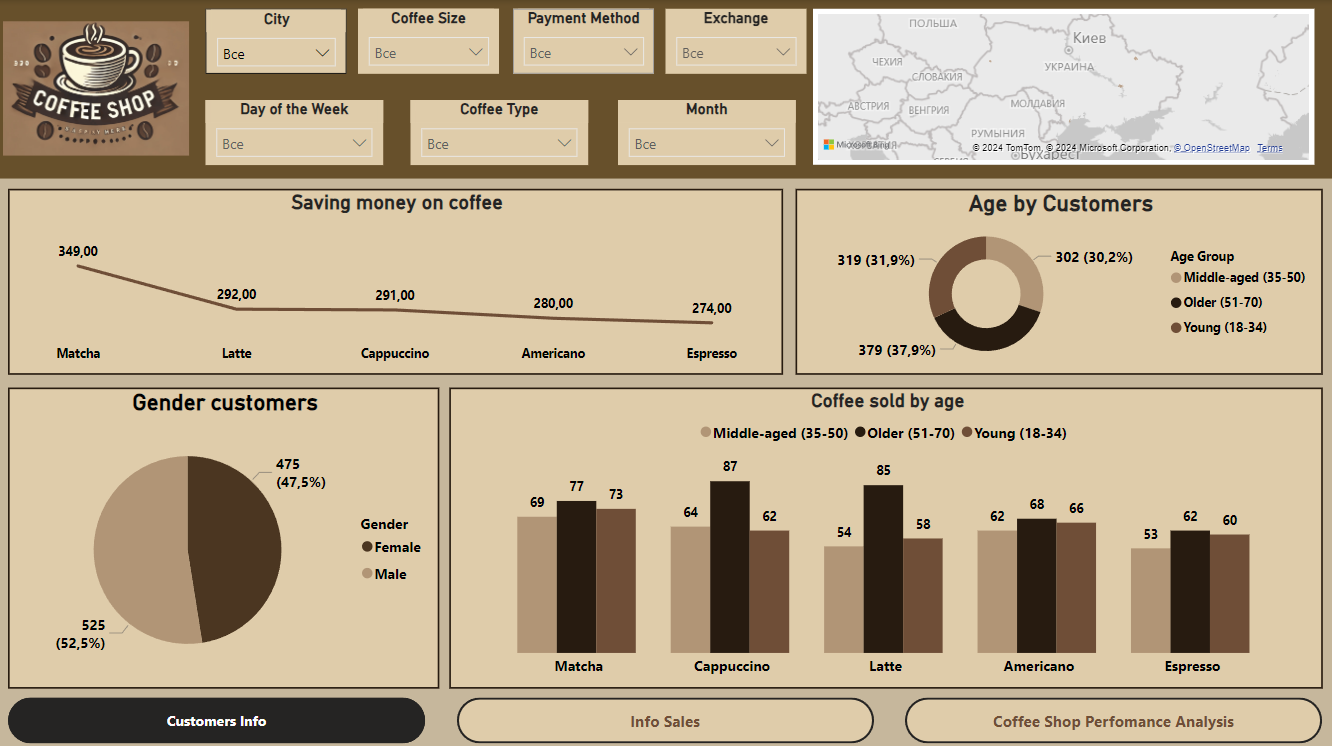

The dashboard page shown, as its layout file describes it:
{"tool":"powerbi","page":{"name":"Customers Info","canvas":[1280,720],"ordinal":0},"visuals":[{"type":"shape","box":[0,0,1280,171.4],"z":0},{"type":"clusteredColumnChart","title":"Coffee sold by age","fields":{"Category":["coffee_purchase_data.CoffeeType"],"Y":["CountNonNull(coffee_purchase_data.id_customer)"],"Series":["info_customer.AgeGroup"]},"box":[432.7,371.5,837.8,288.8],"z":1000},{"type":"filledMap","fields":{"Category":["DimCity.City"],"Y":["Min(DimCity.Latitude)"],"X":["Min(DimCity.Longitude)"]},"box":[781.4,8.4,480.6,149.8],"z":2000},{"type":"slicer","title":"City","fields":{"Values":["DimCity.City"]},"box":[199,8.4,135.4,62.3],"z":3000},{"type":"pieChart","title":"Gender customers","fields":{"Category":["info_customer.gender"],"Y":["CountNonNull(info_customer.id_customer)"]},"box":[9.6,371.5,413.5,288.8],"z":4000},{"type":"image","box":[0,10.8,188.2,147.4],"z":5000},{"type":"slicer","title":"Day of the Week","fields":{"Values":["coffee_purchase_data.Day of the Week"]},"box":[199,95.9,170.2,62.3],"z":6000},{"type":"slicer","title":"Coffee Size","fields":{"Values":["coffee_purchase_data.CoffeeSize"]},"box":[345.2,8.4,135.4,62.3],"z":7000},{"type":"slicer","title":"Coffee Type","fields":{"Values":["coffee_purchase_data.CoffeeType"]},"box":[395.5,95.9,170.2,62.3],"z":8000},{"type":"slicer","title":"Month","fields":{"Values":["coffee_purchase_data.MonthName"]},"box":[594.5,95.9,170.2,62.3],"z":9000},{"type":"slicer","title":"Payment Method","fields":{"Values":["coffee_purchase_data.PaymentType"]},"box":[493.8,8.4,135.4,62.3],"z":10000},{"type":"donutChart","title":"Age by Customers","fields":{"Category":["info_customer.AgeGroup"],"Y":["CountNonNull(info_customer.age)"]},"box":[764.6,181,505.8,178.6],"z":11000},{"type":"lineClusteredColumnComboChart","title":"Saving money on coffee","fields":{"Category":["coffee_purchase_data.CoffeeType"],"Y2":["All the measures.Converted Sales"]},"box":[9.6,181,743.1,178.6],"z":12000},{"type":"slicer","title":"Exchange","fields":{"Values":["Currency.Currency"]},"box":[640,8.4,135.4,62.3],"z":13000},{"type":"pageNavigator","box":[9.6,668.8,1260.8,44.3],"z":14000}]}

Visuals, with their boxes in screenshot pixels (x1, y1, x2, y2), scaled from the page's 1280x720 canvas onto the 1332x746 screenshot:
shape: x1=0 y1=0 x2=1331 y2=178
"Coffee sold by age" clusteredColumnChart: x1=450 y1=385 x2=1322 y2=684
filledMap - DimCity.City x Min(DimCity.Latitude): x1=813 y1=9 x2=1313 y2=164
"City" slicer: x1=207 y1=9 x2=348 y2=73
"Gender customers" pieChart: x1=10 y1=385 x2=440 y2=684
image: x1=0 y1=11 x2=196 y2=164
"Day of the Week" slicer: x1=207 y1=99 x2=384 y2=164
"Coffee Size" slicer: x1=359 y1=9 x2=500 y2=73
"Coffee Type" slicer: x1=412 y1=99 x2=589 y2=164
"Month" slicer: x1=619 y1=99 x2=796 y2=164
"Payment Method" slicer: x1=514 y1=9 x2=655 y2=73
"Age by Customers" donutChart: x1=796 y1=188 x2=1322 y2=373
"Saving money on coffee" lineClusteredColumnComboChart: x1=10 y1=188 x2=783 y2=373
"Exchange" slicer: x1=666 y1=9 x2=807 y2=73
pageNavigator: x1=10 y1=693 x2=1322 y2=739
